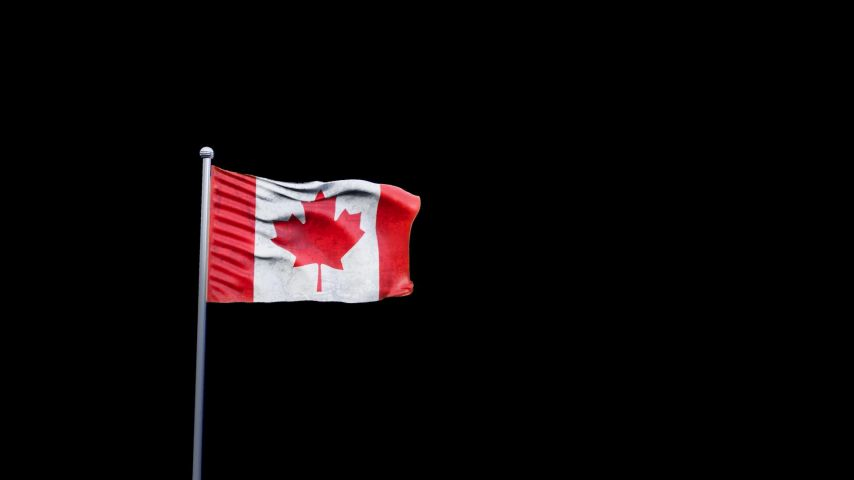Canada flag: (203, 162, 425, 305)
